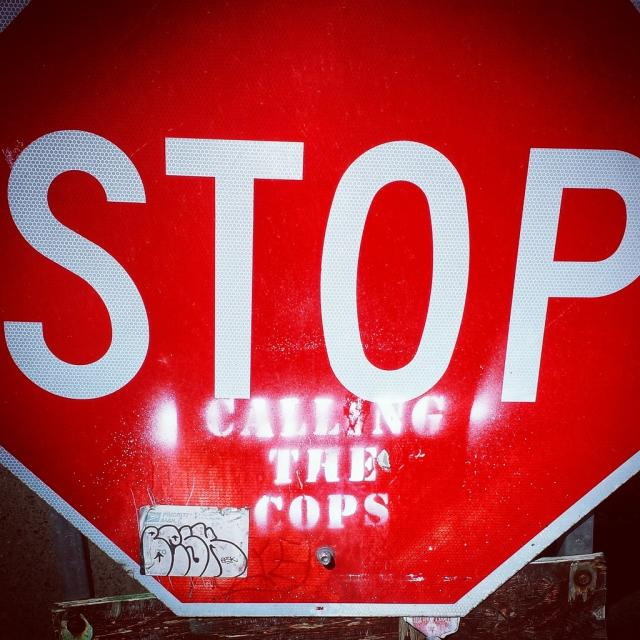Stop-sign: (0, 0, 640, 616)
